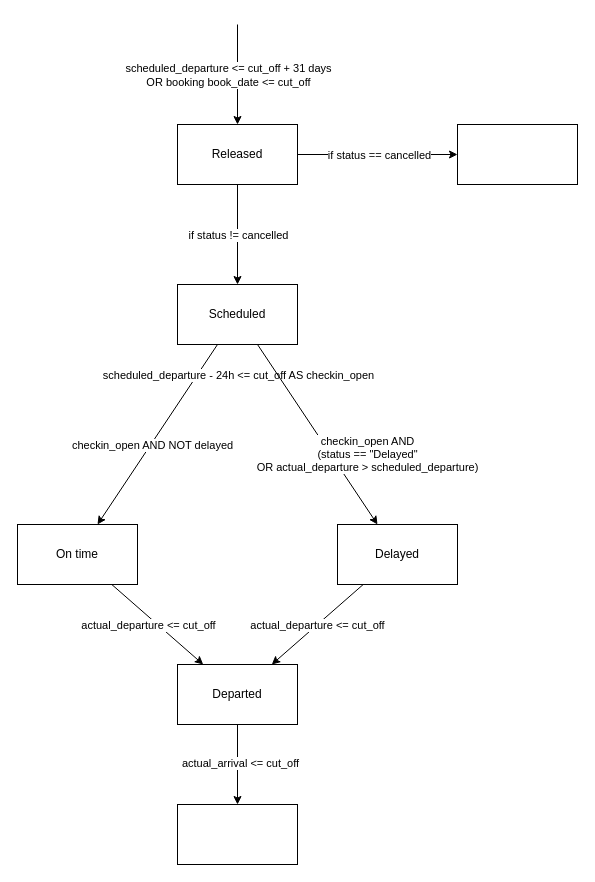
Some shapes in this 595 by 882 pixel diagram are drawn without their labels. The shapes that lost their labels are listed below. From the top down, each one's centre as x and y in pixels, then its label:
At pixel 517 154: "Cancelled".
At pixel 237 834: "Arrived".
